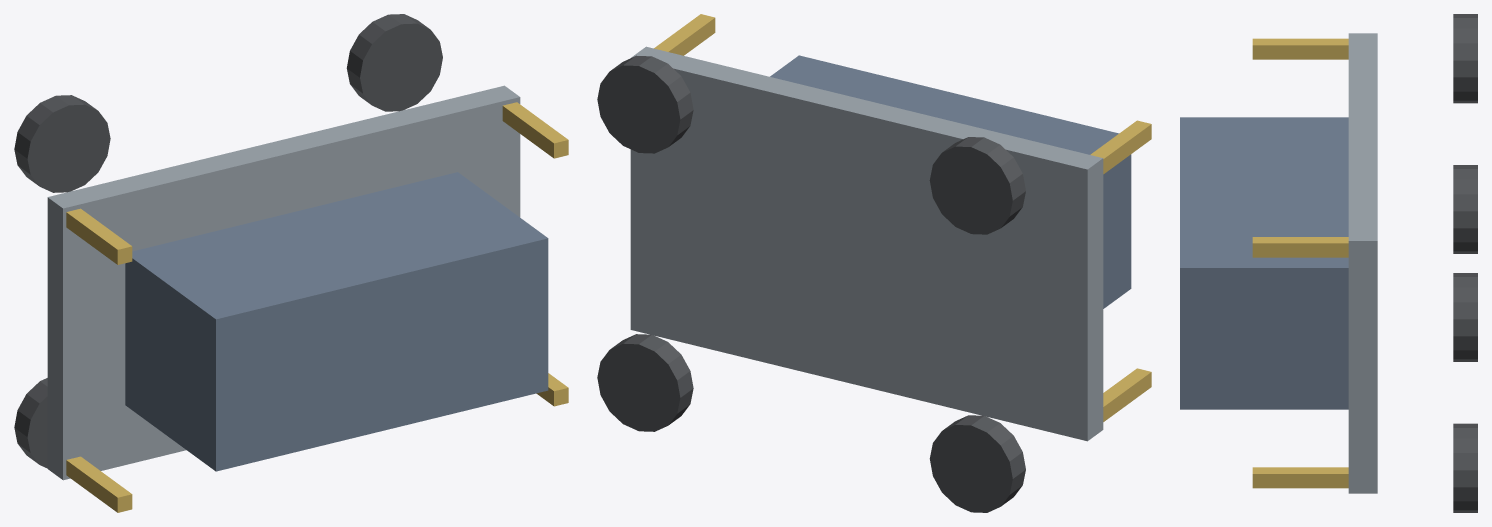
File: baggage_cart.glb
The picture shows the model from 3 angles, left to right: view 1: azimuth 30°, elevation 25°; view 2: azimuth 150°, elevation 25°; view 3: azimuth 270°, elevation 25°; orthographic projection. The views are drawn at different scales.
Parts seen in each view (by area): view 1: world; view 2: world; view 3: world.
Boxes of the visible parts, left/top/right/bottom form: world: left=14, top=14, right=568, bottom=512; world: left=597, top=14, right=1151, bottom=512; world: left=1180, top=14, right=1477, bottom=512.
Size of the model in its own units: 2.2 by 1.68 by 1.34.
